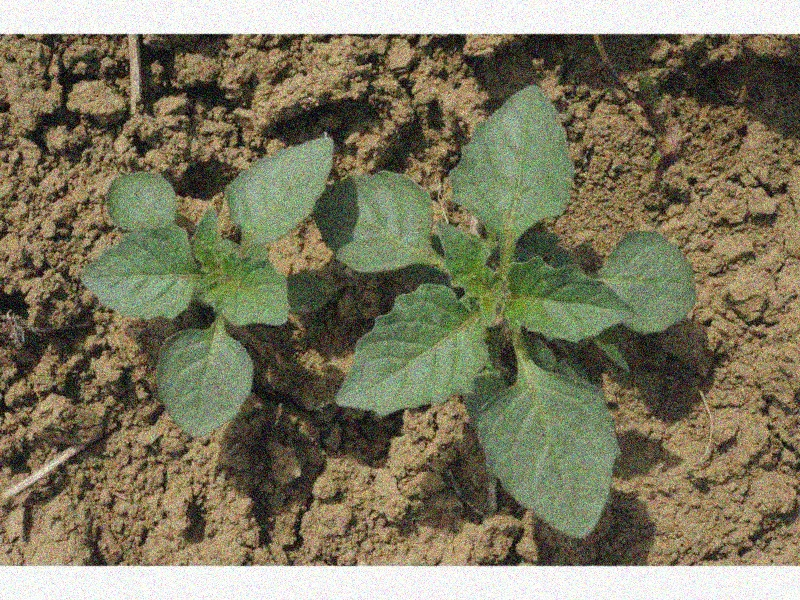nightshade: (313, 84, 697, 535), (80, 138, 335, 436)
